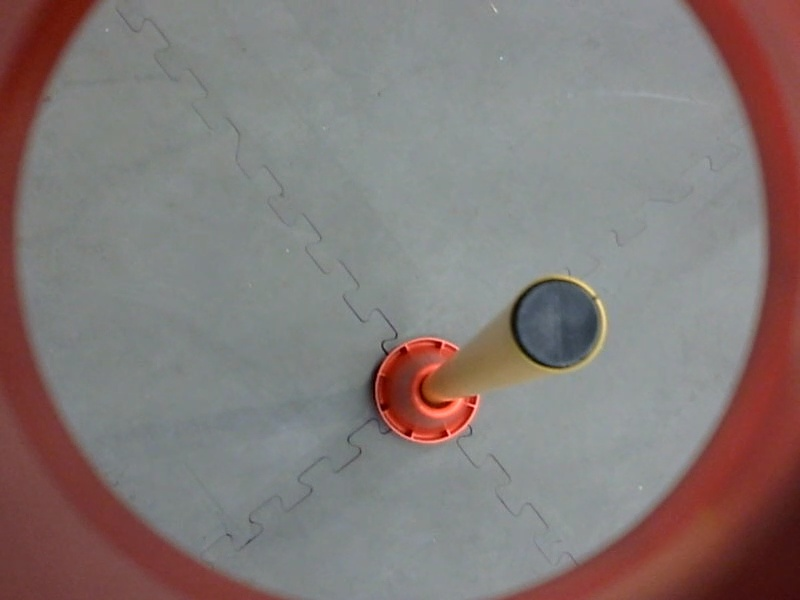tip: (504, 267, 613, 383)
